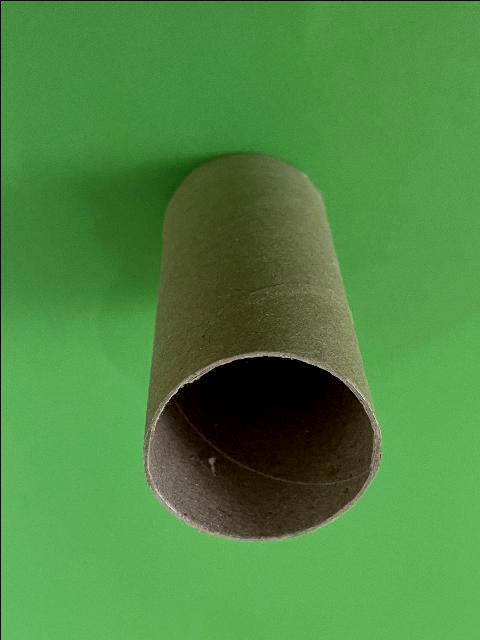tissueroll: (139, 151, 382, 544)
